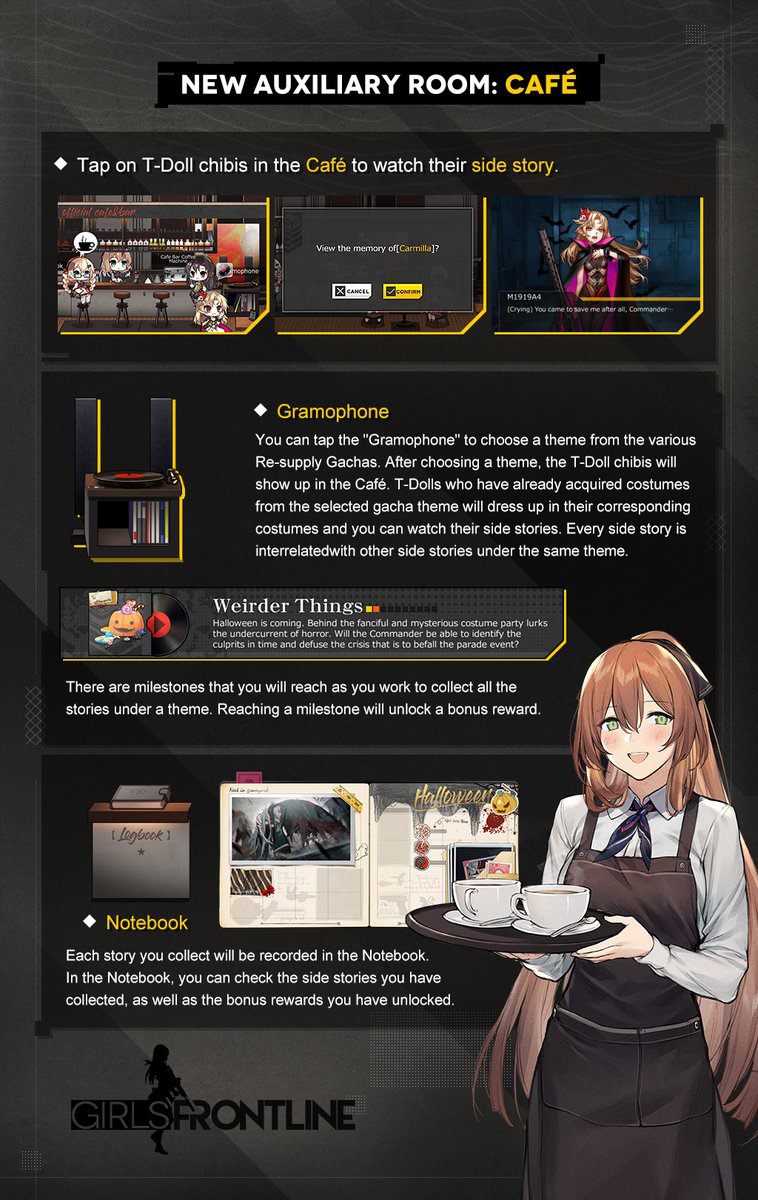latin: (252, 429, 700, 565), (61, 942, 455, 1015), (63, 674, 546, 730), (175, 67, 580, 100), (76, 152, 559, 179), (211, 615, 552, 653), (212, 595, 364, 621), (274, 395, 391, 422), (103, 910, 191, 930)
